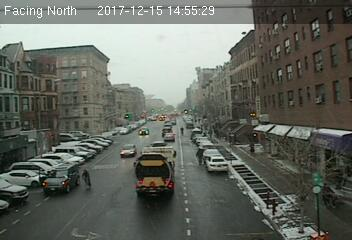bicycle: (80, 169, 91, 189)
car: (205, 154, 228, 172), (119, 144, 137, 157), (162, 132, 176, 140)
truck: (135, 144, 176, 196)
